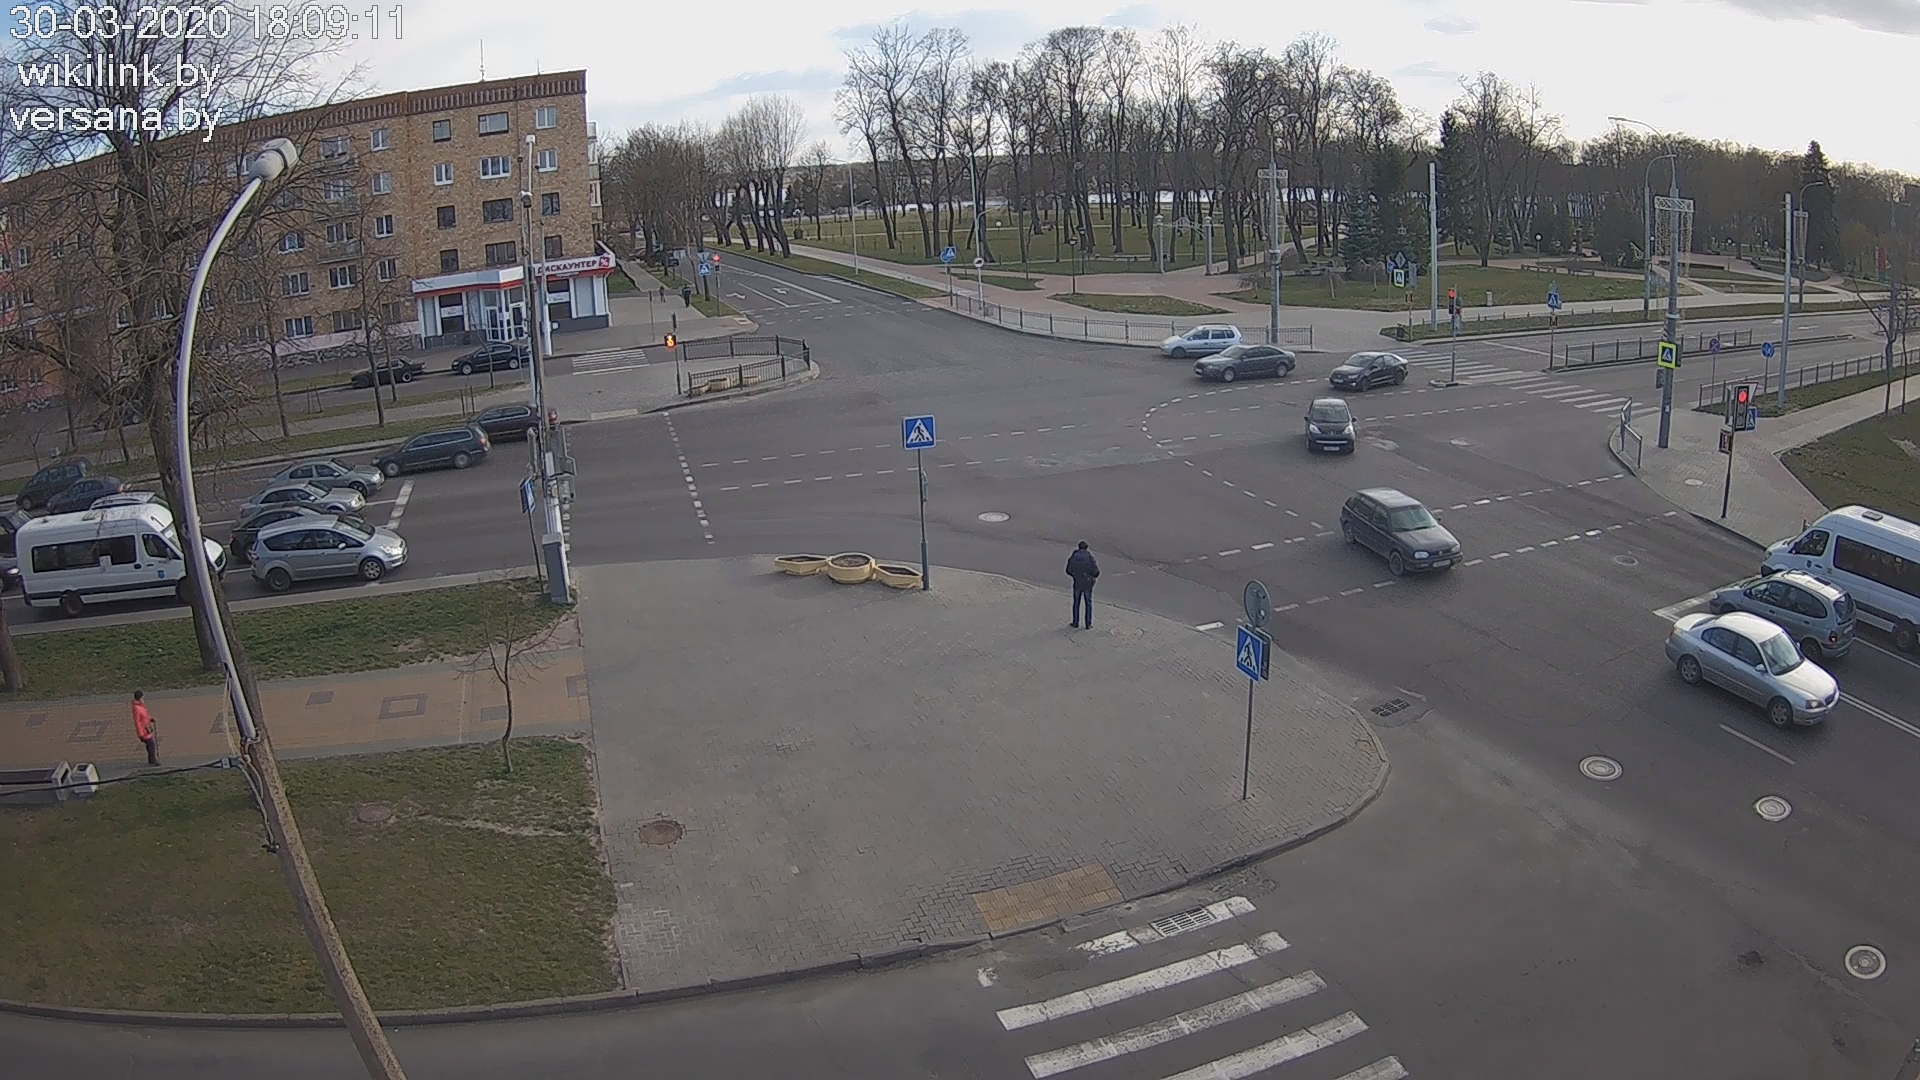car: (16, 504, 225, 616), (1760, 505, 1916, 653), (1665, 611, 1840, 729), (1709, 567, 1857, 662), (251, 517, 407, 591), (1338, 487, 1464, 578), (229, 505, 368, 560), (371, 421, 492, 477), (239, 479, 367, 516), (266, 456, 385, 496), (1193, 344, 1298, 384), (465, 401, 559, 443), (1329, 351, 1408, 392), (1160, 323, 1244, 359), (1304, 398, 1357, 454), (451, 342, 533, 375), (351, 355, 427, 388)
